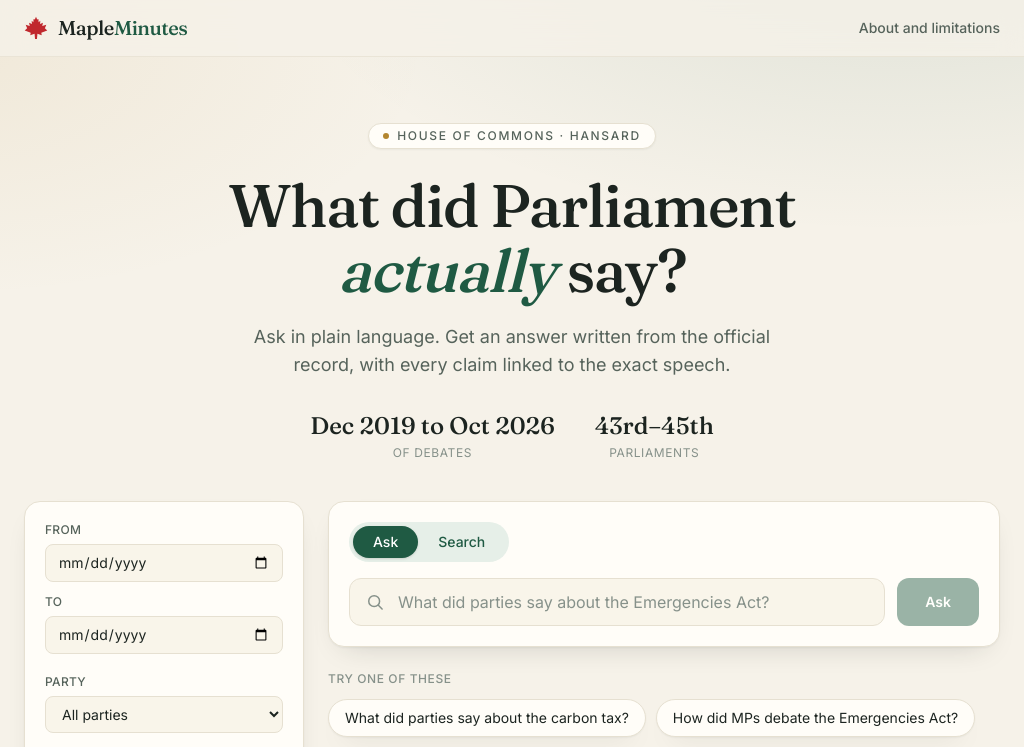
Test: App › offers a rewrite under a normal answer to a definition-style question
Type "What is epilepsy?" into the search field.
click(617, 602); type("What is epilepsy?")  # box top-left (349, 578), bottom-right (885, 626)
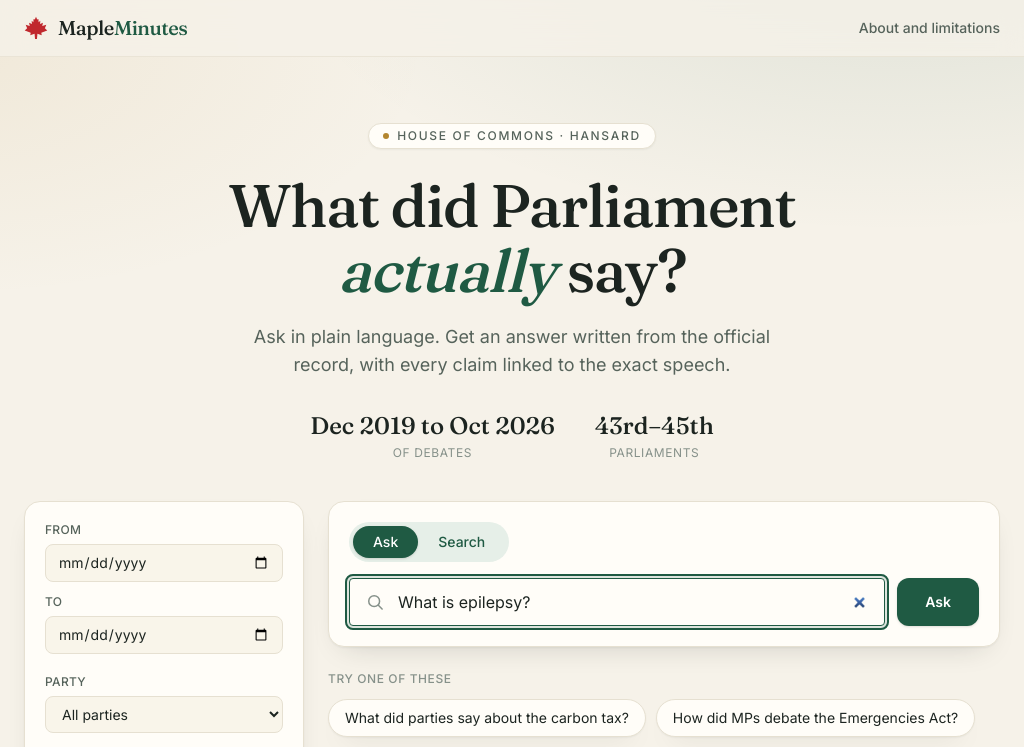
Click the button "Ask".
click(938, 602)  # box top-left (897, 578), bottom-right (979, 626)
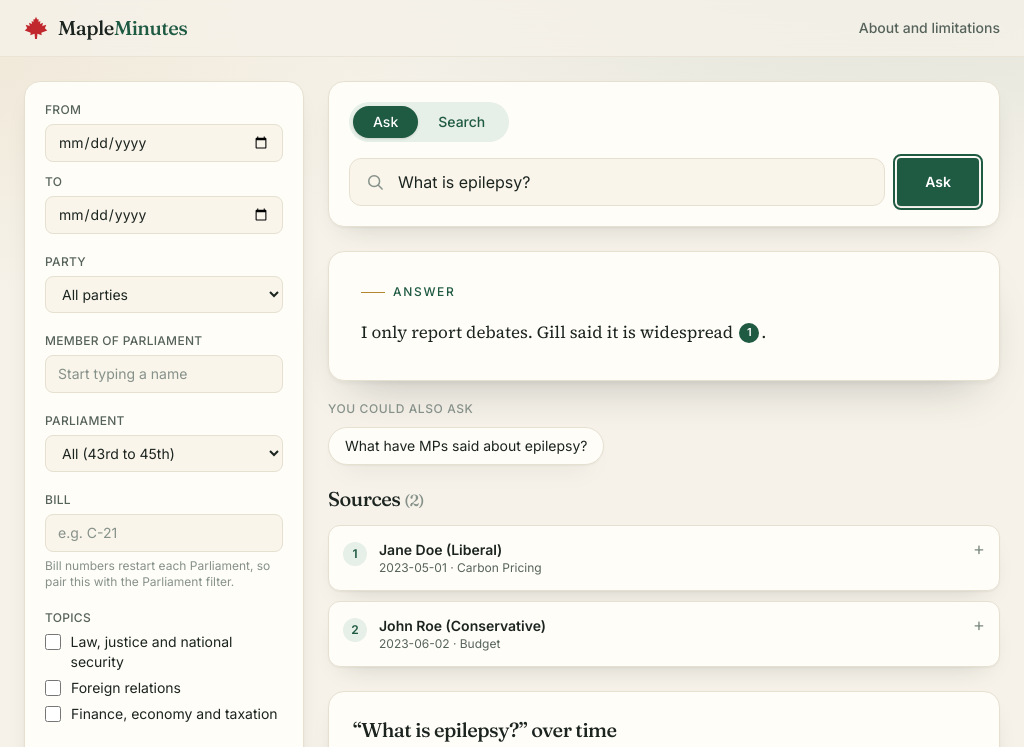
Expected: the text "You could also ask" is shown, top-left (328, 401), bottom-right (473, 416)
Expected: the button "What have MPs said about epilepsy?" is shown, top-left (328, 427), bottom-right (604, 465)
Expected: the list named "Sources" is shown, top-left (328, 525), bottom-right (1000, 667)
